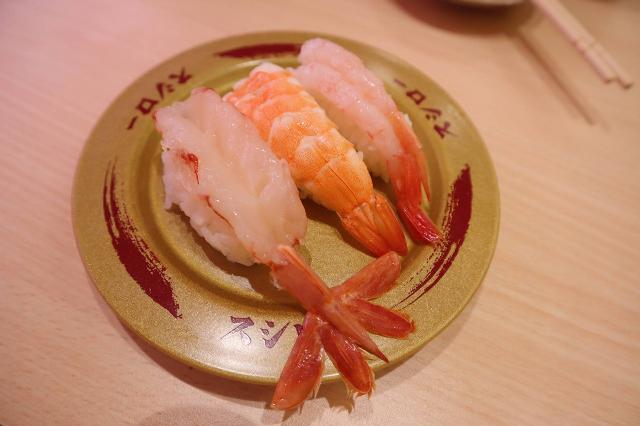jangold: (78, 39, 537, 376)
